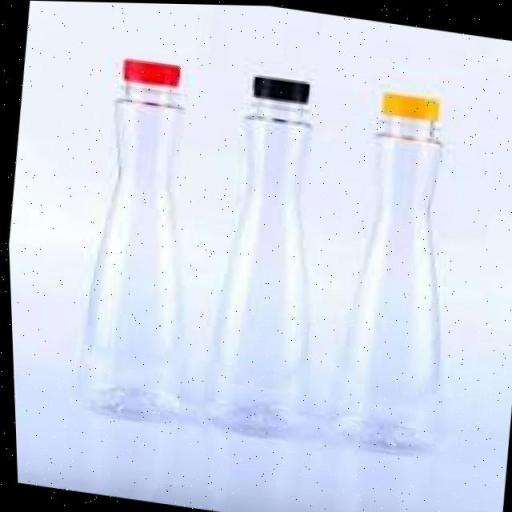plastic: (38, 41, 232, 428), (308, 86, 487, 465), (190, 66, 350, 450)
